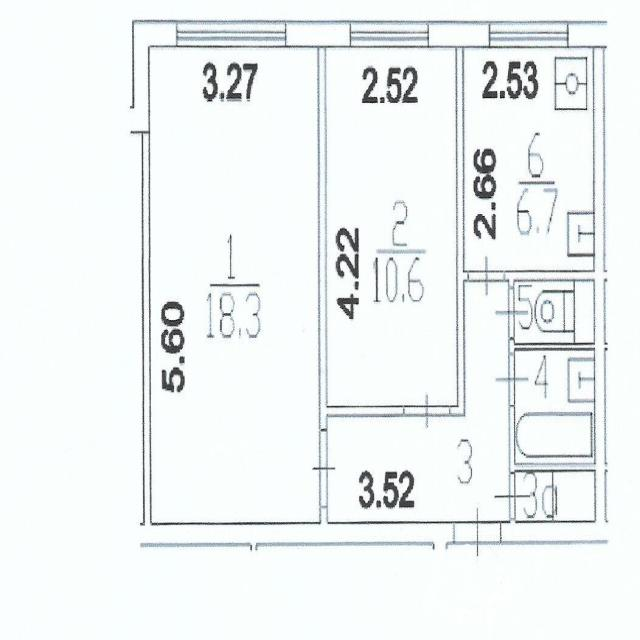Bathrooms: (517, 351, 594, 463), (516, 282, 593, 341)
Corridors: (329, 282, 508, 521), (517, 473, 595, 520)
Doors: (454, 505, 500, 559), (404, 392, 450, 432), (493, 473, 532, 520), (311, 431, 335, 506), (468, 252, 504, 299), (495, 356, 530, 403), (496, 290, 531, 337)
LBwalls: (131, 19, 175, 133), (287, 20, 350, 48), (430, 20, 489, 48), (570, 22, 611, 47)
Offices: (151, 48, 319, 522), (327, 50, 457, 403), (465, 49, 593, 268)
Walls: (139, 134, 454, 547), (501, 49, 607, 546), (318, 47, 404, 431), (450, 48, 469, 416)
Windows: (176, 20, 286, 48), (488, 21, 569, 49), (350, 20, 429, 48)
